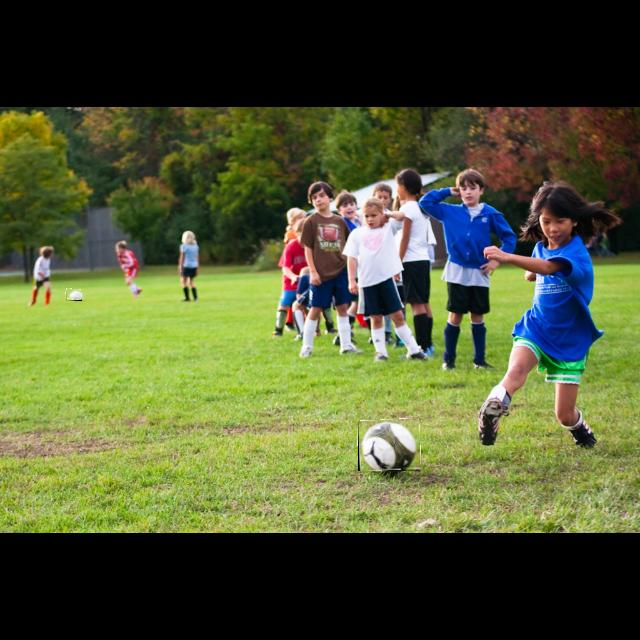Football: (358, 419, 420, 471), (66, 289, 82, 301)
